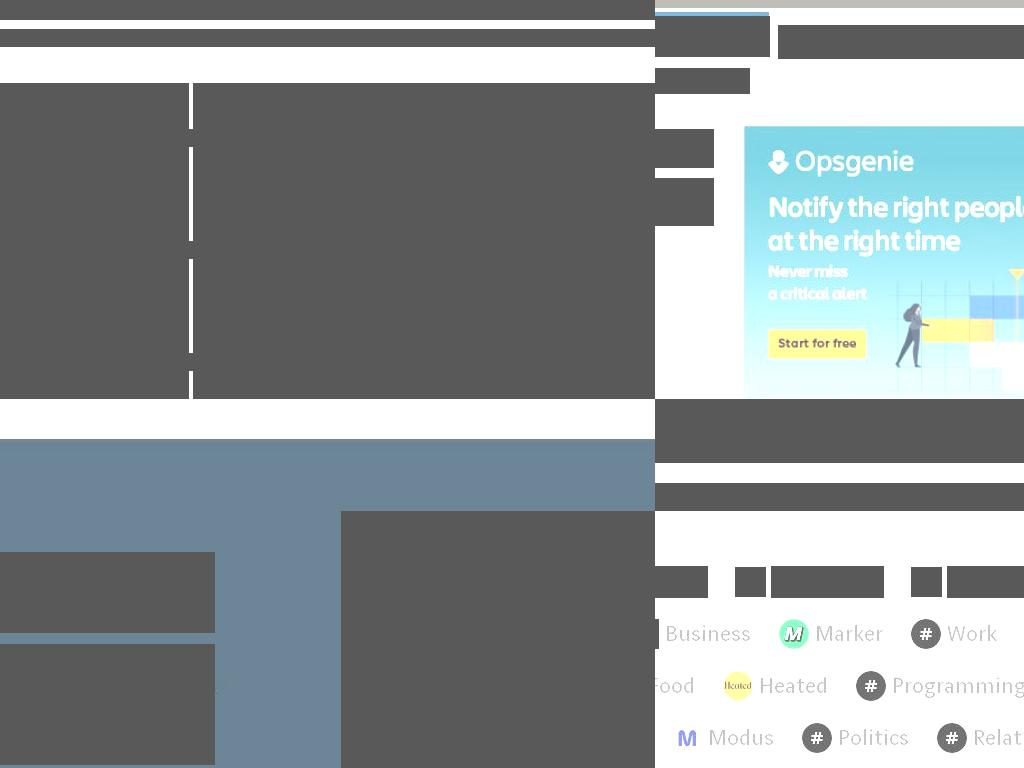button: (193, 129, 655, 147), (193, 241, 655, 259), (193, 353, 655, 371), (655, 16, 770, 57), (0, 129, 193, 147), (0, 241, 193, 259), (0, 353, 193, 371), (655, 68, 750, 94)
field: (778, 25, 1007, 59)
heading: (0, 552, 215, 633), (0, 0, 655, 20), (655, 483, 1024, 511)
iframe: (744, 126, 1024, 399)
image: (341, 511, 655, 768), (193, 83, 655, 195), (193, 195, 655, 307), (193, 307, 655, 399), (0, 83, 189, 195), (0, 195, 189, 307), (0, 307, 189, 399), (735, 567, 766, 597), (911, 567, 942, 597), (779, 619, 809, 649), (911, 619, 941, 649), (723, 671, 753, 701), (856, 671, 886, 701), (672, 723, 702, 753), (802, 723, 832, 753), (937, 723, 967, 753)
text: (0, 644, 215, 765), (0, 29, 655, 47), (892, 670, 1024, 702), (771, 566, 884, 598), (665, 618, 751, 650), (947, 566, 1024, 598), (838, 722, 909, 754), (759, 670, 828, 702), (815, 618, 883, 650), (708, 722, 774, 754), (668, 27, 764, 47), (655, 566, 708, 598), (973, 722, 1024, 754), (947, 618, 997, 650), (655, 670, 695, 702), (1006, 25, 1024, 59)
